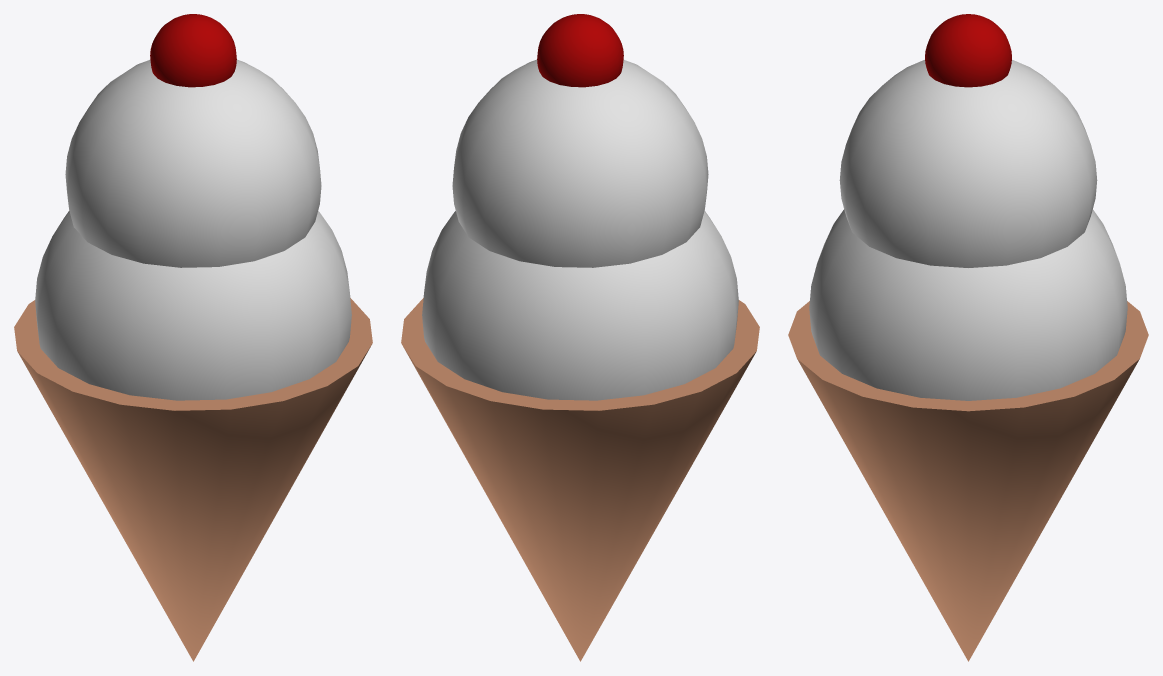
Rendered from icecream.fbx.
3 renders of one model, left to right at view 1: azimuth 30°, elevation 25°; view 2: azimuth 150°, elevation 25°; view 3: azimuth 270°, elevation 25°, orthographic.
Parts seen in each view (by area): view 1: polySurface1; view 2: polySurface1; view 3: polySurface1.
Part boxes in pixels (x1,y1,x2,y2): polySurface1: (14,14,372,661); polySurface1: (401,14,759,661); polySurface1: (788,14,1148,661).
Bounding box in the file's own units: 2 × 3.94 × 2.
